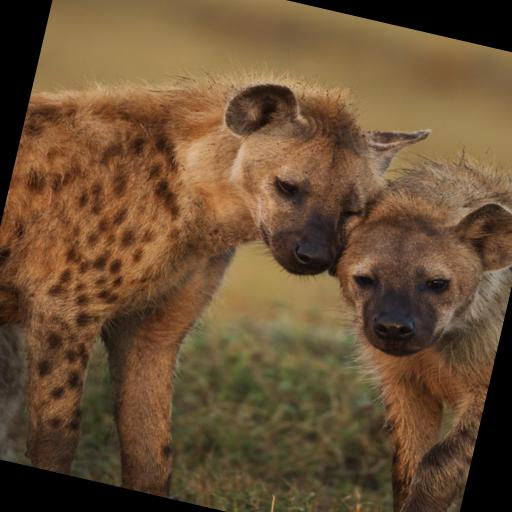hyenas: (0, 15, 512, 512)
